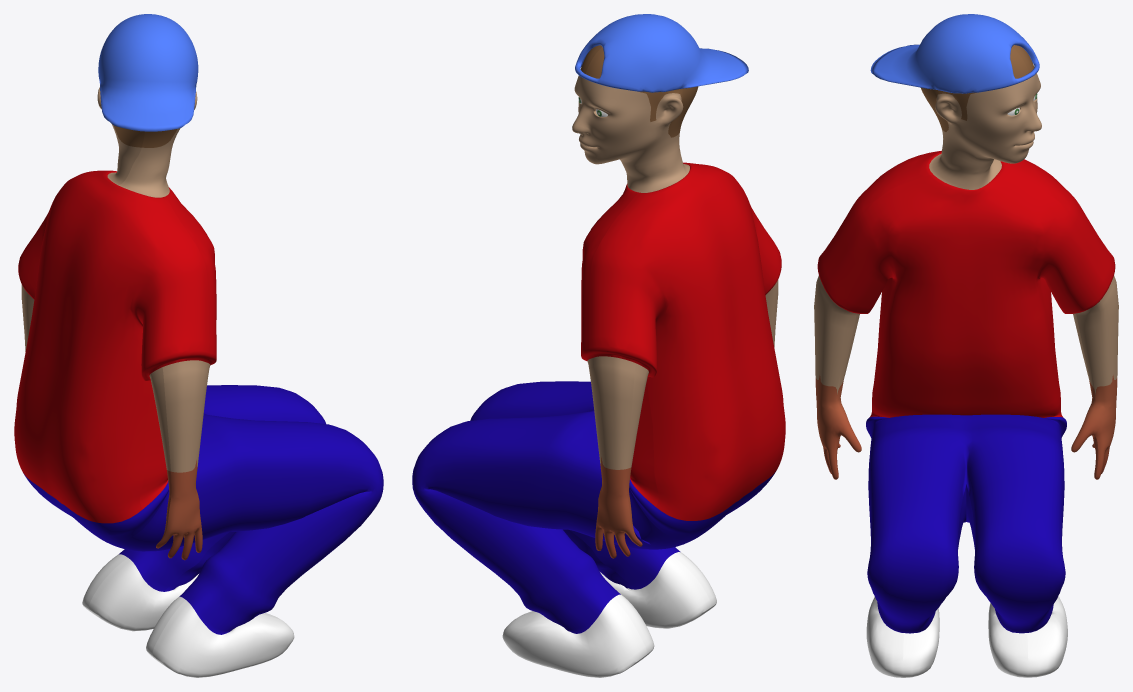
The model's file is PersonajePoseAgachado3.fbx.
The picture shows the model from 3 angles, left to right: view 1: azimuth 30°, elevation 25°; view 2: azimuth 150°, elevation 25°; view 3: azimuth 270°, elevation 25°; orthographic projection. The views are drawn at different scales.
Visible parts, largest first — view 1: Cuerpo completo smooth.002; view 2: Cuerpo completo smooth.002; view 3: Cuerpo completo smooth.002.
Boxes of the visible parts, left/top/right/bottom form: Cuerpo completo smooth.002: left=14, top=14, right=383, bottom=677; Cuerpo completo smooth.002: left=412, top=14, right=785, bottom=677; Cuerpo completo smooth.002: left=814, top=14, right=1118, bottom=677.
Size of the model in its own units: 58.13 by 114 by 51.36.
